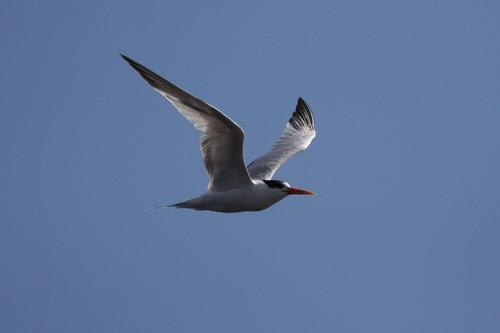bird: (114, 53, 316, 233)
